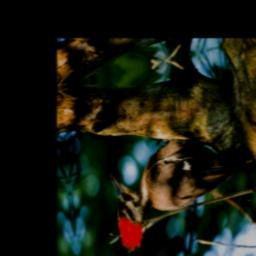Woodpecker: (105, 109, 256, 256)
